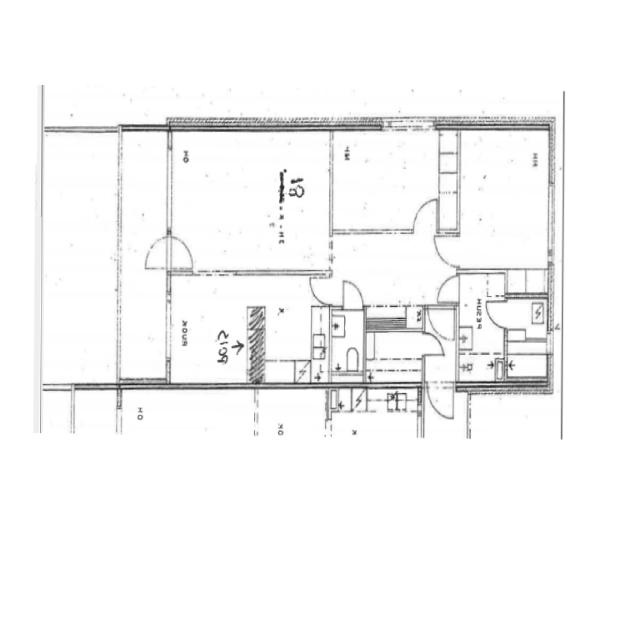door: (172, 126, 338, 274), (425, 379, 456, 423), (166, 232, 196, 274), (410, 195, 440, 235), (432, 231, 462, 270), (143, 232, 171, 273), (427, 304, 457, 342), (340, 277, 366, 313), (435, 273, 461, 306), (306, 274, 332, 307), (484, 298, 508, 330), (420, 329, 445, 358)
window: (161, 136, 177, 235), (162, 294, 175, 364)
zone: (168, 128, 336, 274), (41, 126, 121, 387), (455, 126, 552, 281), (329, 129, 448, 232), (168, 276, 260, 386), (256, 277, 328, 386), (456, 272, 508, 382), (364, 329, 425, 388), (503, 337, 551, 392), (330, 307, 364, 384), (504, 296, 550, 342)
